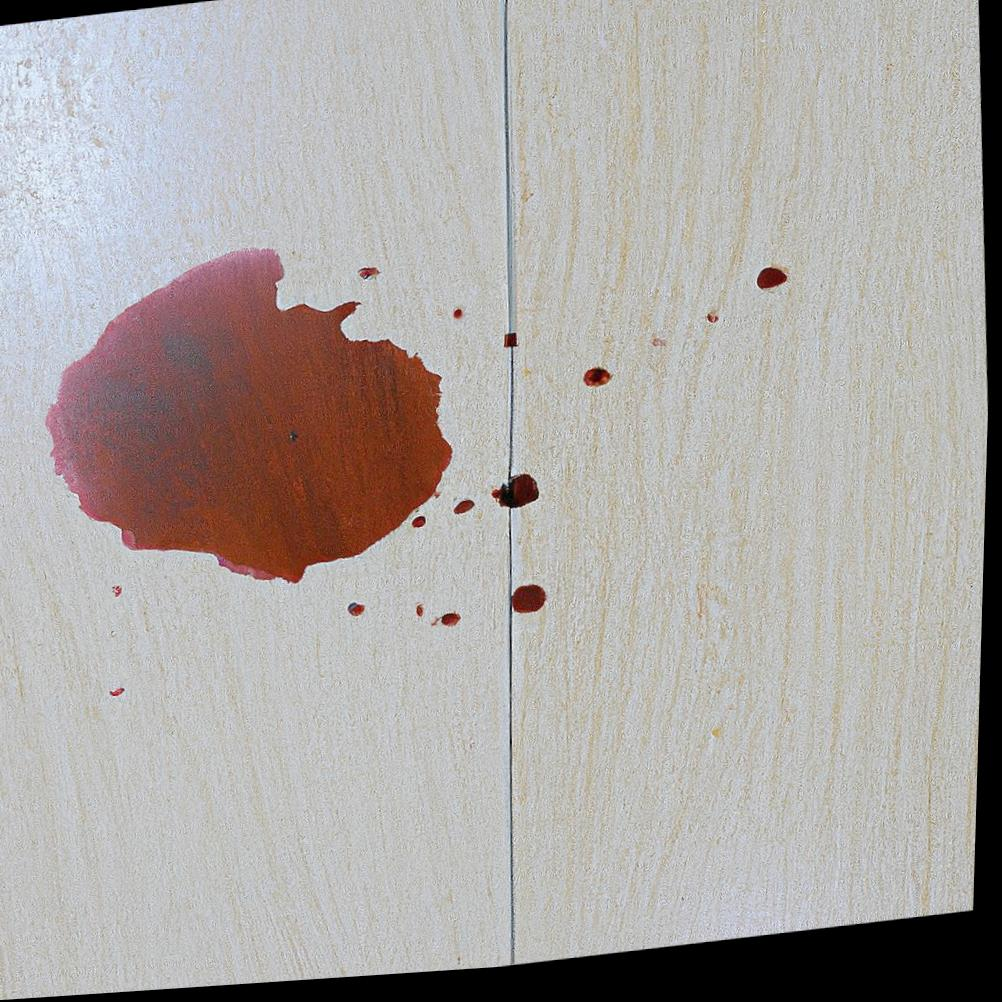Fire: (48, 251, 456, 589), (495, 482, 543, 516), (515, 592, 551, 622), (759, 278, 790, 301), (585, 375, 615, 395), (456, 506, 478, 522), (445, 619, 466, 633), (415, 521, 430, 534)
